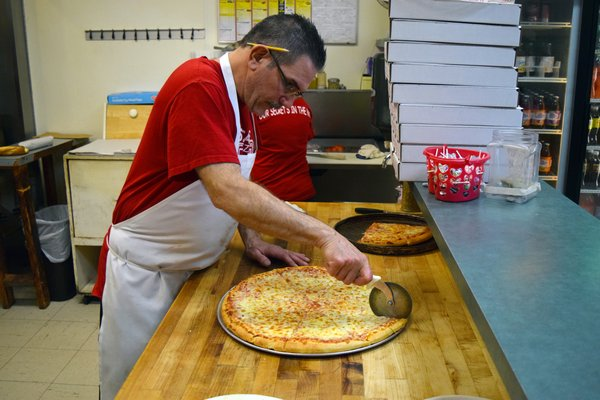burger: (540, 41, 555, 77)
curry: (117, 232, 536, 395)
sandwich: (223, 263, 406, 352), (356, 221, 432, 247)
